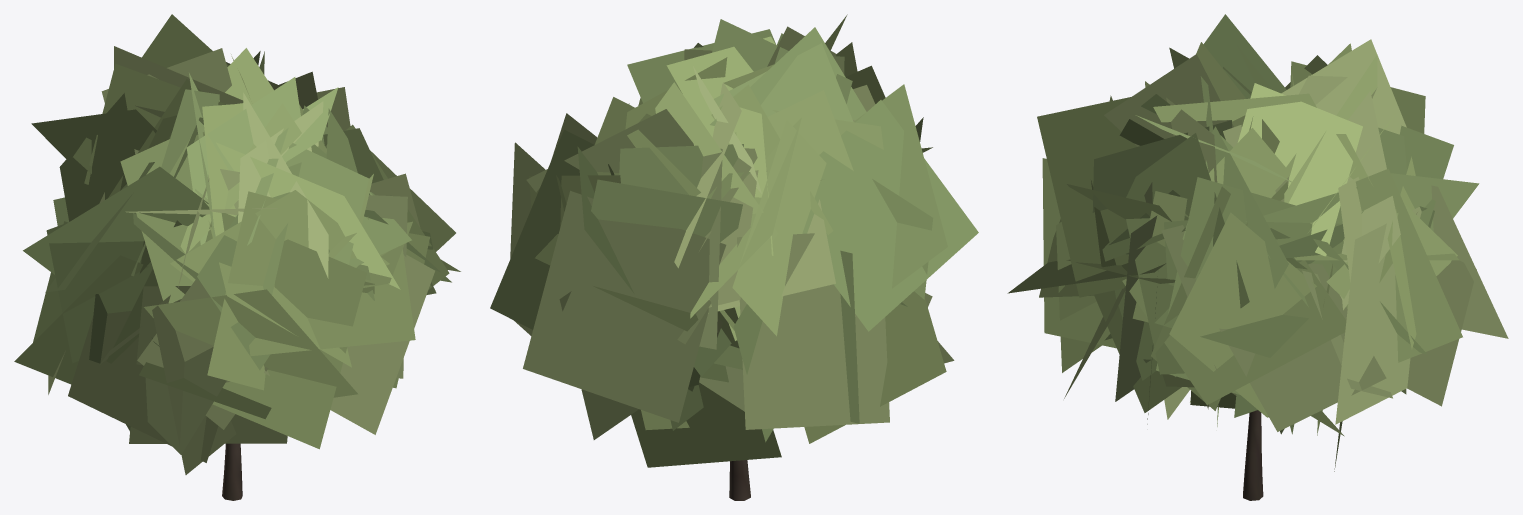
The model's file is robinia_lod1.glb.
3 views of the same model, side by side, from view 1: azimuth 30°, elevation 25°; view 2: azimuth 150°, elevation 25°; view 3: azimuth 270°, elevation 25° (orthographic). The views are drawn at different scales.
Visible parts, largest first — view 1: robinia_lod1; view 2: robinia_lod1; view 3: robinia_lod1.
Part boxes in pixels (x1,y1,x2,y2): robinia_lod1: [14, 14, 460, 500]; robinia_lod1: [490, 14, 978, 500]; robinia_lod1: [1007, 14, 1508, 500].
Bounding box in the file's own units: 0.9681 × 1 × 1.
